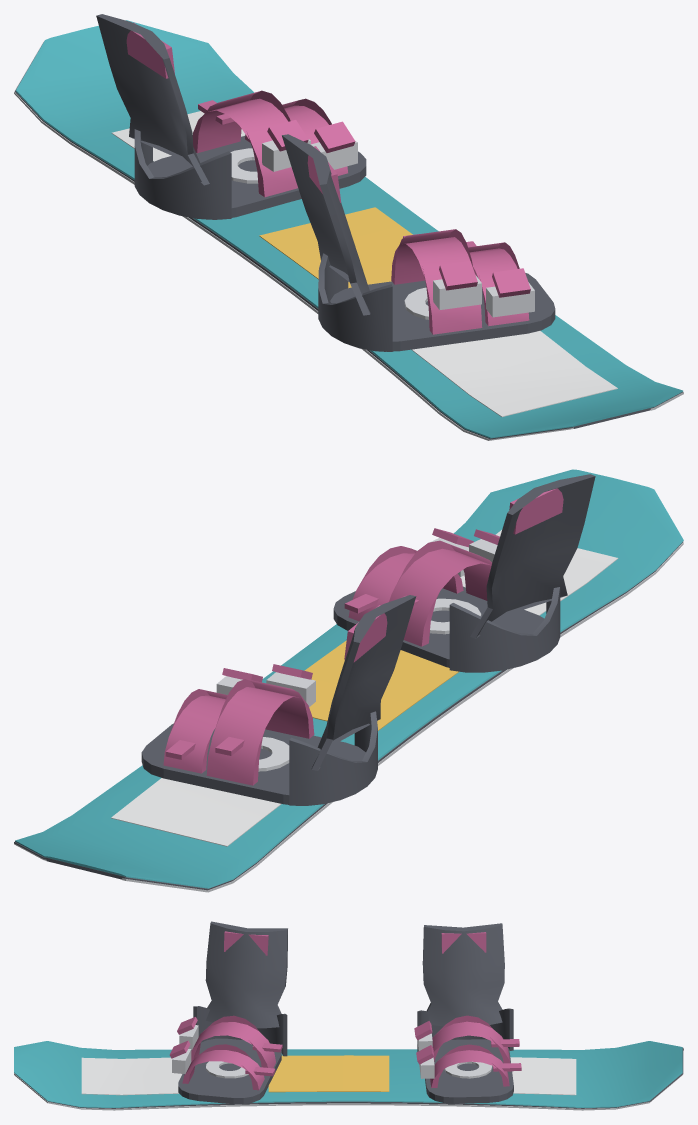
File: snowboard-gear-and-freestyle-riders-junior-board-5d1737b1__22929.glb
3 renders of one model, top to bottom at view 1: azimuth 30°, elevation 25°; view 2: azimuth 150°, elevation 25°; view 3: azimuth 270°, elevation 25°, orthographic. The views are drawn at different scales.
Parts seen in each view (by area): view 1: junior-board; view 2: junior-board; view 3: junior-board.
Part boxes in pixels (bbox=[...]): junior-board: bbox=[14, 14, 683, 440]; junior-board: bbox=[14, 469, 683, 892]; junior-board: bbox=[14, 921, 683, 1110].
Bounding box in the file's own units: 0.3037 × 0.2287 × 1.18.
